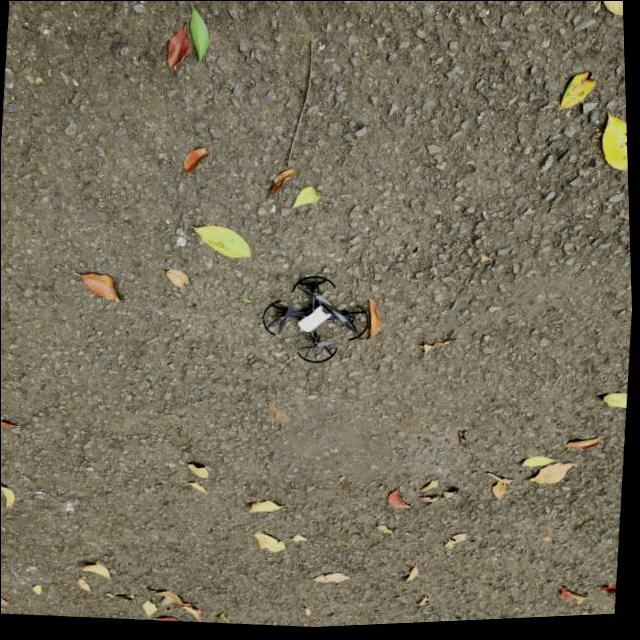drone: (262, 280, 368, 367)
